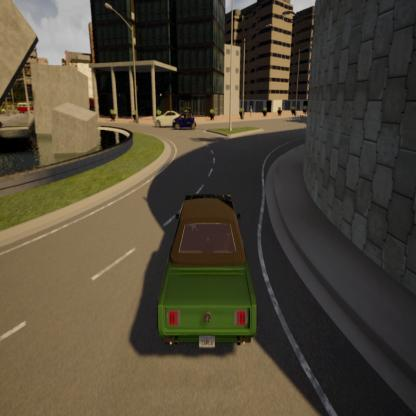Cars: (147, 184, 260, 364), (152, 107, 183, 131), (168, 110, 198, 133)
